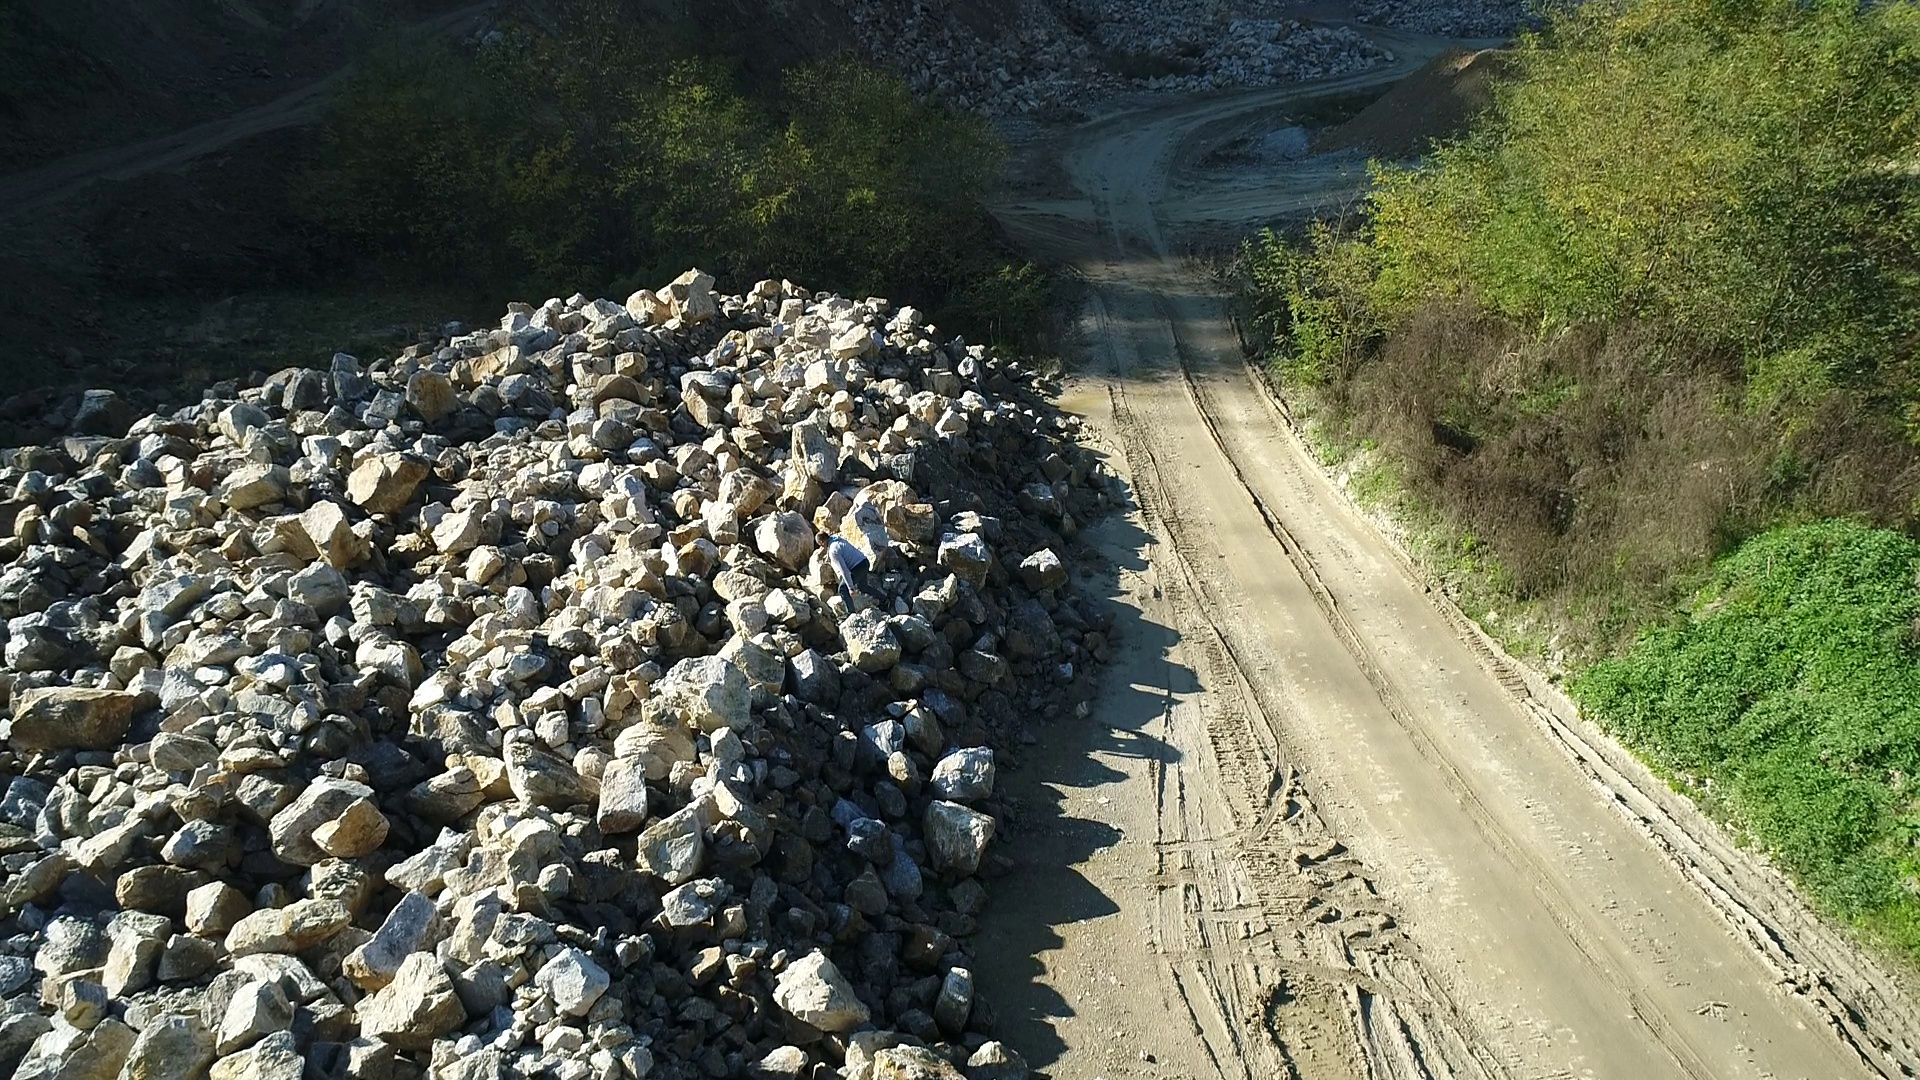not_defined: (812, 527, 894, 608)
